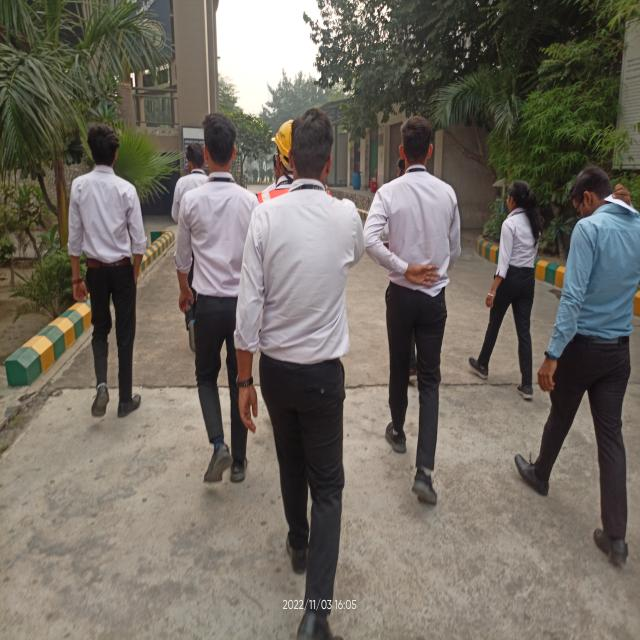safe: (255, 117, 295, 206)
unsafe: (234, 108, 366, 636), (516, 168, 640, 563), (365, 114, 460, 508), (175, 112, 262, 482), (68, 124, 147, 420), (470, 178, 538, 403), (172, 142, 208, 339)
